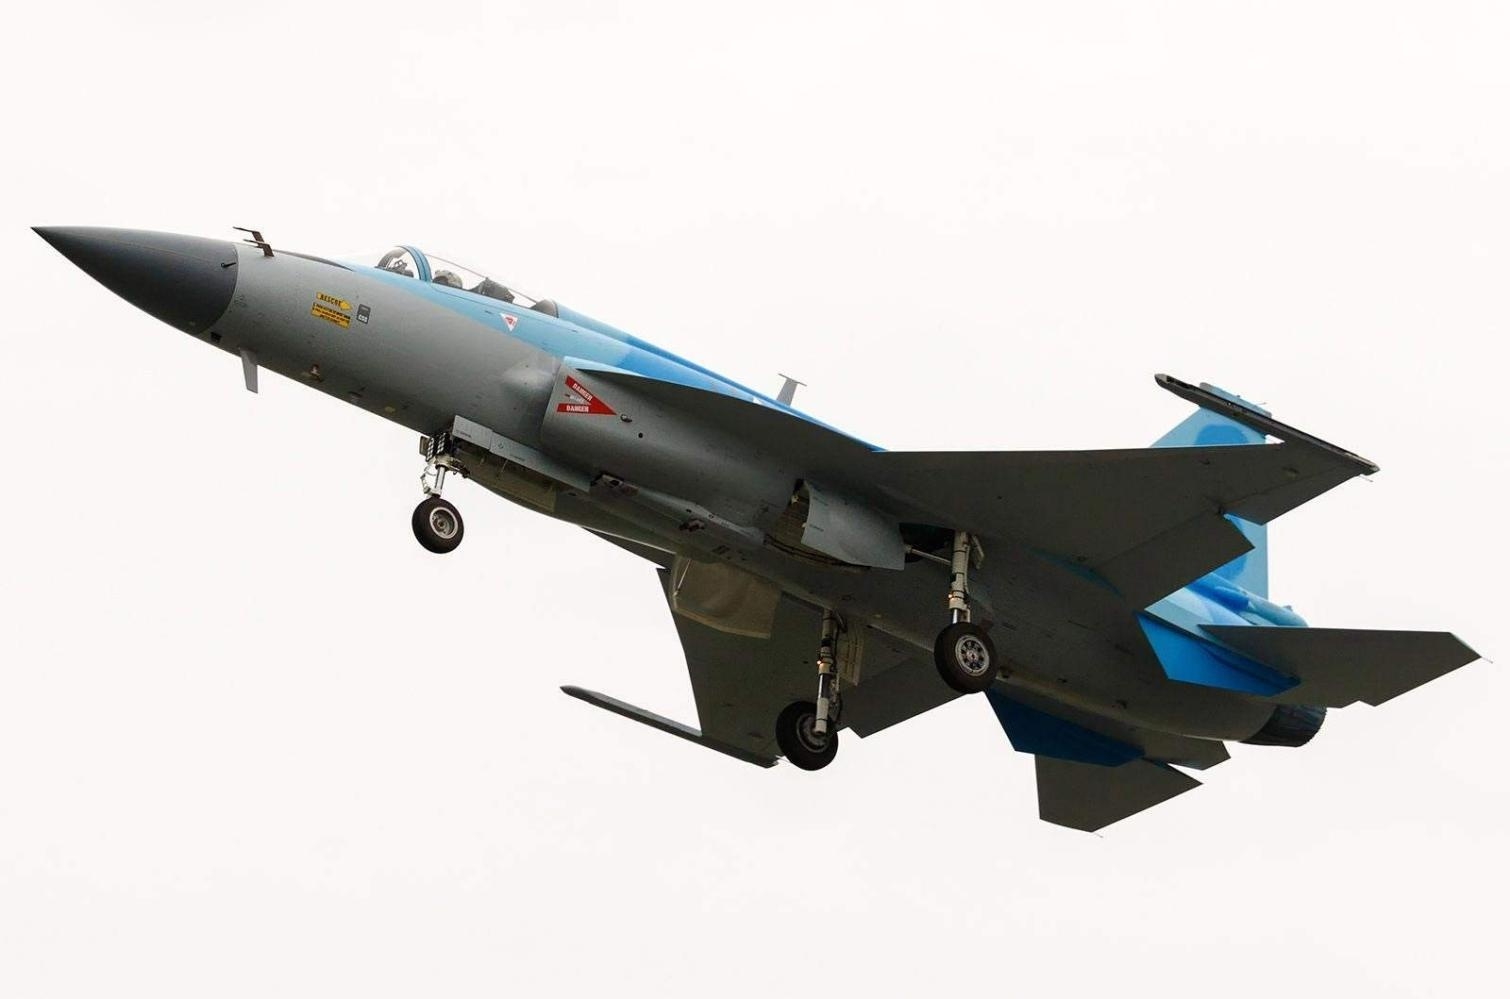airplane: (20, 198, 1485, 834)
